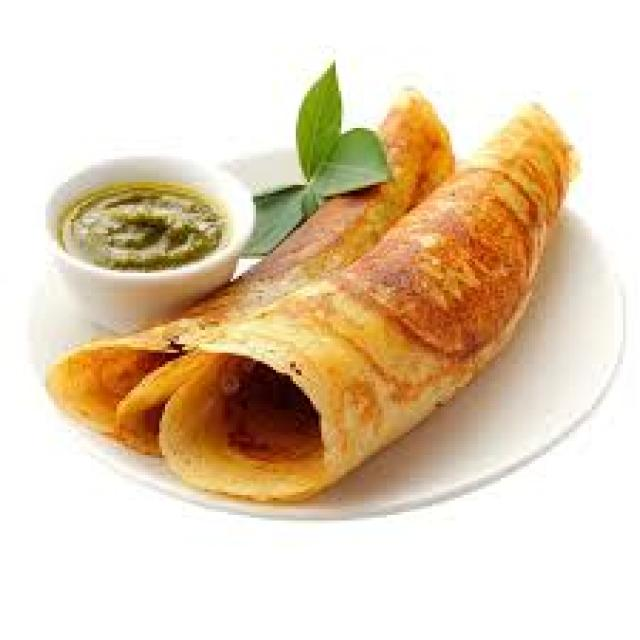DOSA: (164, 98, 585, 503), (40, 91, 453, 450)
